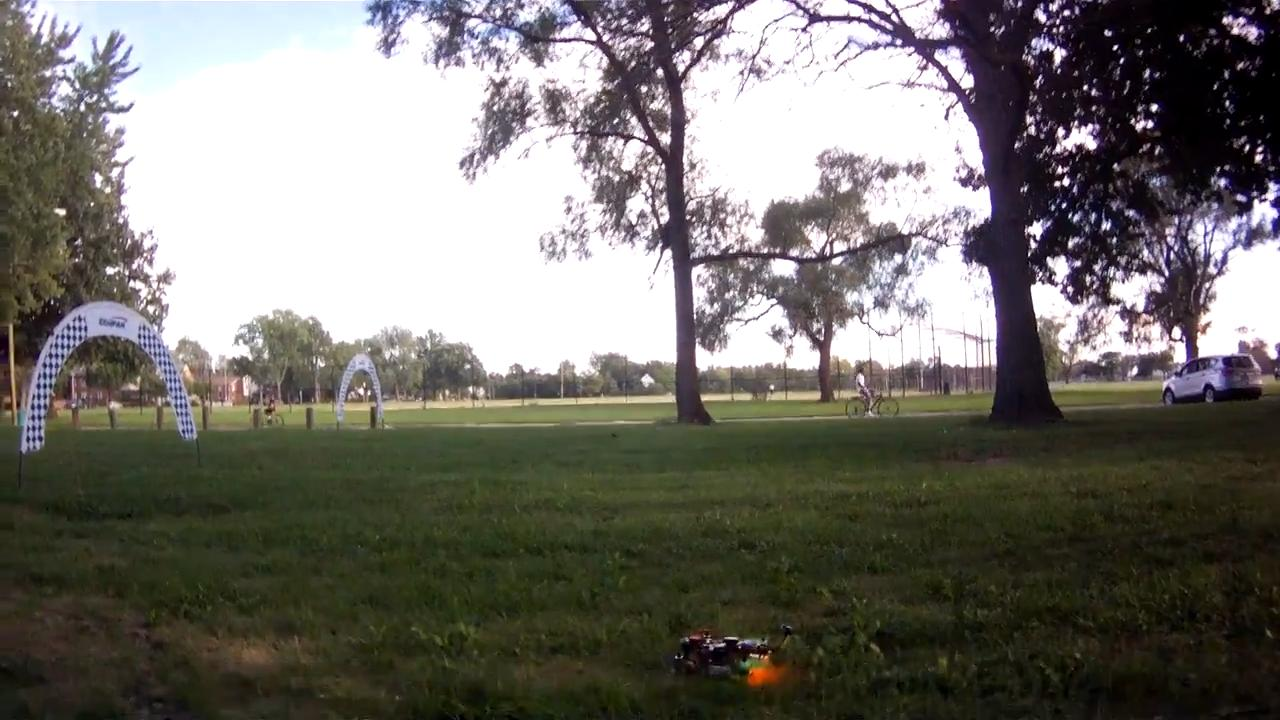gate: (22, 297, 200, 452)
